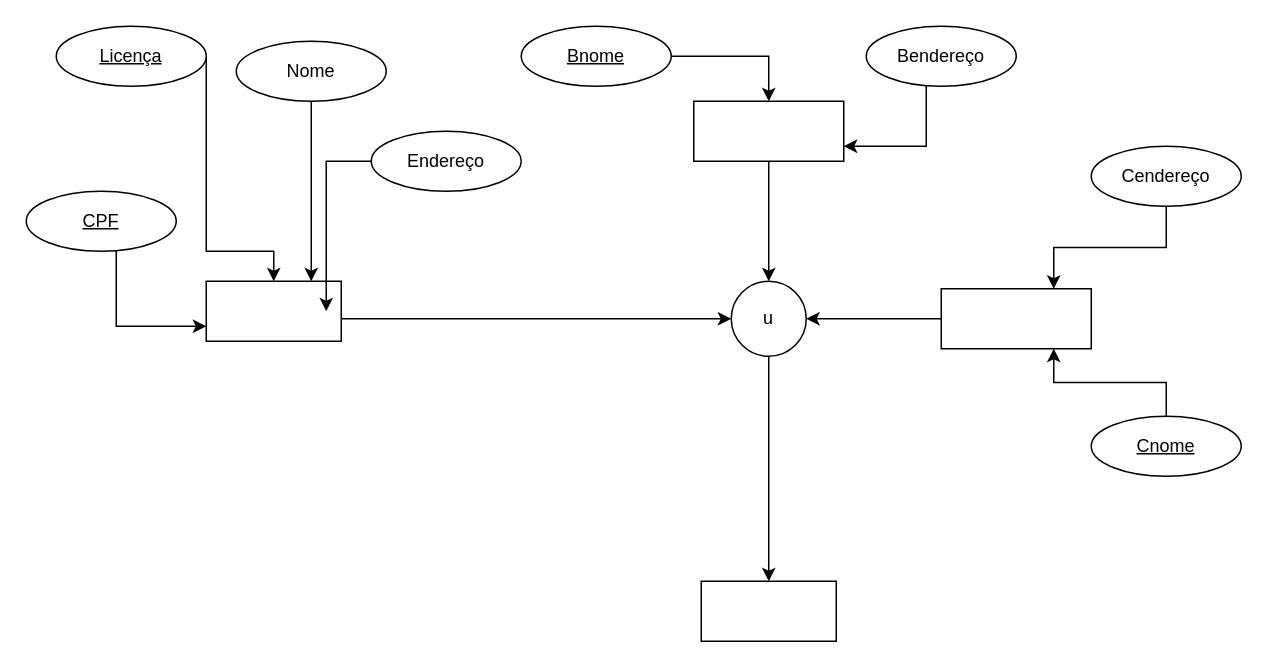
This 1268x668 diagram has some shape labels left out. Here are the shapes that lost their labels. From the top down, the box of each, then its label:
(692, 100, 844, 161): Banco
(205, 280, 341, 341): Pessoa
(940, 287, 1091, 349): Company
(700, 580, 836, 641): Owner
